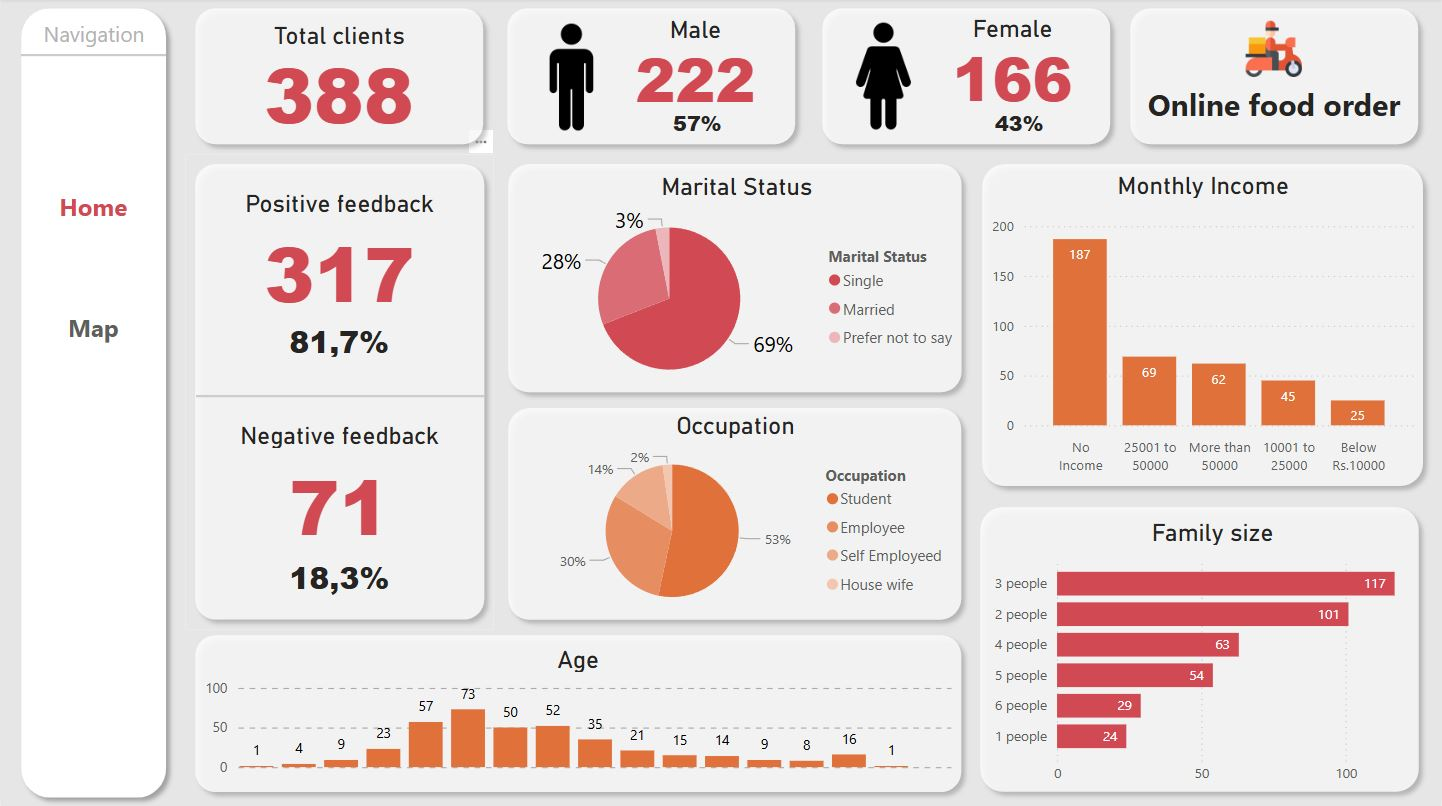

This screenshot's page, from the dashboard's own definition file:
{"tool":"powerbi","page":{"name":"Home","canvas":[1280,720],"ordinal":0},"visuals":[{"type":"shape","box":[8.8,0,146.9,719.8],"z":0},{"type":"shape","box":[163.4,0,274.3,139.1],"z":1000,"group":"g8"},{"type":"shape","box":[163.4,139.1,275.3,423.1],"z":1000},{"type":"shape","box":[440.6,0,274.3,139.1],"z":2000,"group":"g6"},{"type":"group","id":"g1","title":"Группа 3","box":[861.8,443.5,418.2,271.4],"z":2000},{"type":"shape","box":[720.7,0,274.3,139.1],"z":3000,"group":"g5"},{"type":"group","id":"g2","title":"Группа 4","box":[441.6,139.1,421.2,220.8],"z":3000},{"type":"shape","box":[995,0,274.3,139.1],"z":4000,"group":"g7"},{"type":"group","id":"g3","title":"Группа 5","box":[862.7,139.1,410.5,304.4],"z":4000},{"type":"textbox","box":[1002.8,71,257.8,59.3],"z":5000,"group":"g7"},{"type":"shape","box":[163.4,557.3,699.3,157.6],"z":5000},{"type":"image","box":[1102,14.6,60.3,62.2],"z":6000,"group":"g7"},{"type":"shape","box":[173.1,347.2,256.8,12.6],"z":6000},{"type":"card","title":"Total clients","fields":{"Values":["All Measures.Total clients"]},"box":[179,20.4,242.2,98.2],"z":7000,"group":"g8"},{"type":"group","id":"g4","title":"Группа 1","box":[198.4,170.2,204.3,366.7],"z":7000},{"type":"group","id":"g5","title":"Группа 2","box":[720.7,0,274.3,139.1],"z":8000},{"type":"card","title":"Male","fields":{"Values":["All Measures.Male"]},"box":[544.9,15,144.9,85.9],"z":8000,"group":"g6"},{"type":"card","title":"Female","fields":{"Values":["All Measures.Female"]},"box":[826,14.6,146.9,85.6],"z":9000,"group":"g5"},{"type":"columnChart","title":"Age","fields":{"Category":["onlinefoods.Age"],"Y":["All Measures.Total clients"]},"box":[176,569.8,673.8,137.8],"z":9000},{"type":"group","id":"g6","title":"Группа 6","box":[440.6,0,274.3,139.1],"z":10000},{"type":"image","box":[451.3,17.5,111.9,105],"z":10000,"group":"g6"},{"type":"group","id":"g7","title":"Группа 7","box":[995,0,274.3,139.1],"z":11000},{"type":"image","box":[728.5,16.5,111.9,105],"z":11000,"group":"g5"},{"type":"group","id":"g8","title":"Группа 8","box":[163.4,0,274.3,139.1],"z":12000},{"type":"card","fields":{"Values":["All Measures.% male"]},"box":[589.8,96.3,57.4,34],"z":12000,"group":"g6"},{"type":"card","fields":{"Values":["All Measures.% female"]},"box":[877.6,96.3,55.4,34],"z":13000,"group":"g5"},{"type":"group","id":"g9","title":"Группа 10","box":[441.6,356,421.2,206.2],"z":13000},{"type":"shape","box":[441.6,139.1,421.2,220.8],"z":14000,"group":"g10"},{"type":"actionButton","box":[32.1,170.2,100.2,30.2],"z":14000},{"type":"pieChart","title":"Marital Status","fields":{"Category":["onlinefoods.Marital Status"],"Y":["All Measures.Total clients"]},"box":[447.4,155.1,412.3,201.2],"z":15000,"group":"g10"},{"type":"card","title":"Positive feedback","fields":{"Values":["All Measures.Positive"]},"box":[198.4,170.2,205.2,117.9],"z":15000,"group":"g4"},{"type":"actionButton","box":[32.1,277.2,100.2,30.2],"z":15000},{"type":"textbox","box":[26.3,14.6,111.9,37],"z":16000},{"type":"card","title":"Negative feedback","fields":{"Values":["All Measures.Negative"]},"box":[198.4,376.6,205.2,120.8],"z":16000,"group":"g4"},{"type":"shape","box":[441.6,356,421.2,206.2],"z":16500,"group":"g11"},{"type":"shape","box":[17.5,44.7,129.4,12.6],"z":17000},{"type":"card","fields":{"Values":["All Measures.% positive"]},"box":[250.9,288.1,100.2,36.1],"z":17000,"group":"g4"},{"type":"pieChart","title":"Occupation","fields":{"Category":["onlinefoods.Occupation"],"Y":["All Measures.Total clients"]},"box":[455.2,367.6,395.7,189.4],"z":17000,"group":"g11"},{"type":"shape","box":[862.7,139.1,410.5,304.4],"z":17500,"group":"g3"},{"type":"columnChart","title":"Monthly Income","fields":{"Y":["All Measures.Total clients"],"Category":["onlinefoods.Monthly Income"]},"box":[874.8,154.6,386.1,277.3],"z":18000,"group":"g3"},{"type":"card","fields":{"Values":["All Measures.% negative"]},"box":[250.9,497.4,100.2,39],"z":18000,"group":"g4"},{"type":"shape","box":[861.8,443.5,408.4,271.4],"z":20000,"group":"g1"},{"type":"barChart","title":"Family size","fields":{"Y":["All Measures.Total clients"],"Category":["onlinefoods.Number of people in family"]},"box":[875.4,462.4,404.7,245.4],"z":21000,"group":"g1"},{"type":"group","id":"g10","title":"Группа 9","box":[441.6,139.1,421.2,220.8],"z":23007,"group":"g2"},{"type":"group","id":"g11","title":"Группа 11","box":[441.6,356,421.2,206.2],"z":23008,"group":"g9"}]}

Visuals, with their boxes in screenshot pixels (x1, y1, x2, y2), scaled from the page's 1280x720 canvas onto the 1442x806 screenshot:
shape: box=[10, 0, 175, 805]
shape: box=[184, 0, 493, 156]
shape: box=[184, 156, 494, 629]
shape: box=[496, 0, 805, 156]
"Группа 3" group: box=[971, 496, 1441, 800]
shape: box=[812, 0, 1121, 156]
"Группа 4" group: box=[497, 156, 972, 403]
shape: box=[1121, 0, 1430, 156]
"Группа 5" group: box=[972, 156, 1434, 496]
textbox: box=[1130, 79, 1420, 146]
shape: box=[184, 624, 972, 800]
image: box=[1241, 16, 1309, 86]
shape: box=[195, 389, 484, 403]
"Total clients" card: box=[202, 23, 475, 133]
"Группа 1" group: box=[224, 191, 454, 601]
"Группа 2" group: box=[812, 0, 1121, 156]
"Male" card: box=[614, 17, 777, 113]
"Female" card: box=[931, 16, 1096, 112]
"Age" columnChart: box=[198, 638, 957, 792]
"Группа 6" group: box=[496, 0, 805, 156]
image: box=[508, 20, 634, 137]
"Группа 7" group: box=[1121, 0, 1430, 156]
image: box=[821, 18, 947, 136]
"Группа 8" group: box=[184, 0, 493, 156]
card - All Measures.% male: box=[664, 108, 729, 146]
card - All Measures.% female: box=[989, 108, 1051, 146]
"Группа 10" group: box=[497, 399, 972, 629]
shape: box=[497, 156, 972, 403]
actionButton: box=[36, 191, 149, 224]
"Marital Status" pieChart: box=[504, 174, 969, 399]
"Positive feedback" card: box=[224, 191, 455, 323]
actionButton: box=[36, 310, 149, 344]
textbox: box=[30, 16, 156, 58]
"Negative feedback" card: box=[224, 422, 455, 557]
shape: box=[497, 399, 972, 629]
shape: box=[20, 50, 165, 64]
card - All Measures.% positive: box=[283, 323, 396, 363]
"Occupation" pieChart: box=[513, 412, 959, 624]
shape: box=[972, 156, 1434, 496]
"Monthly Income" columnChart: box=[986, 173, 1420, 483]
card - All Measures.% negative: box=[283, 557, 396, 600]
shape: box=[971, 496, 1431, 800]
"Family size" barChart: box=[986, 518, 1441, 792]
"Группа 9" group: box=[497, 156, 972, 403]
"Группа 11" group: box=[497, 399, 972, 629]
